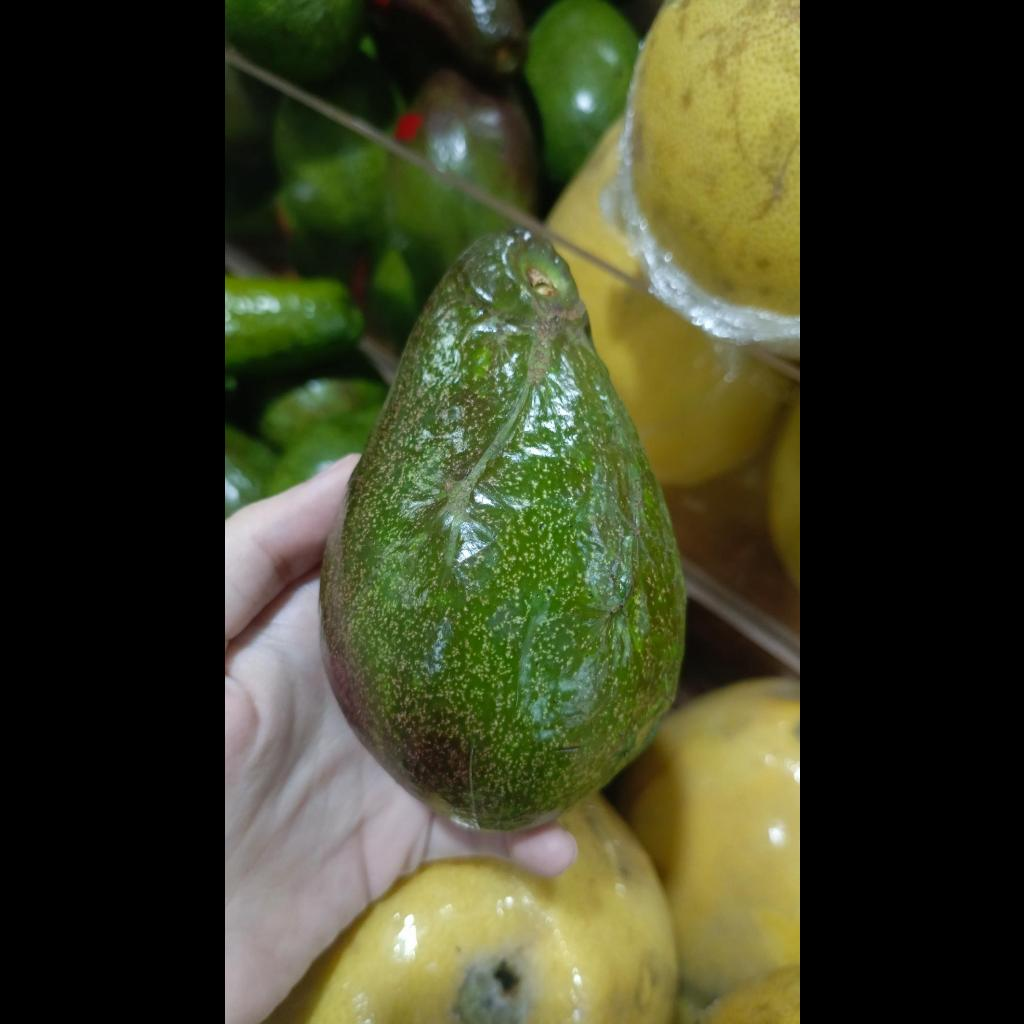healthy: (320, 231, 685, 830)
